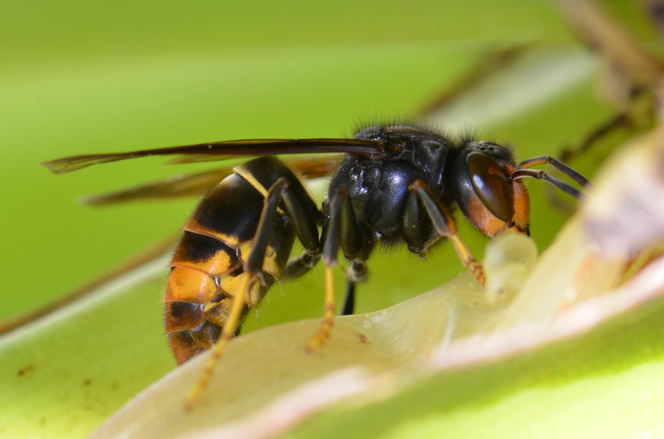hornet: (105, 89, 596, 377)
